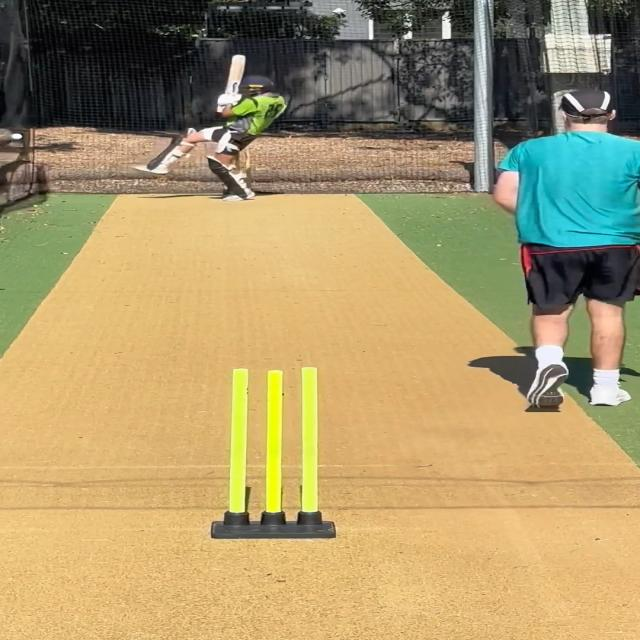ball: (10, 133, 24, 140)
stump: (210, 364, 336, 539)
